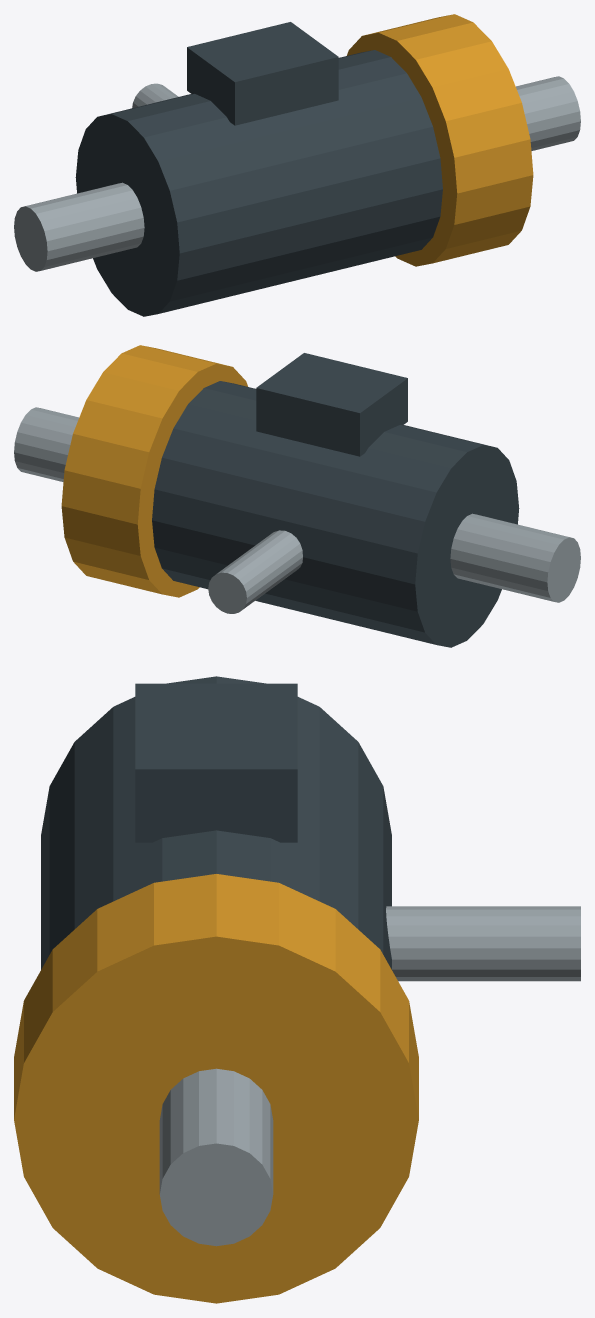
File: FuelLinks.obj
The picture shows the model from 3 angles, top to bottom: view 1: azimuth 30°, elevation 25°; view 2: azimuth 150°, elevation 25°; view 3: azimuth 270°, elevation 25°; orthographic projection. The views are drawn at different scales.
Parts seen in each view (by area): view 1: FuelLinksBody; view 2: FuelLinksBody; view 3: FuelLinksBody.
Part boxes in pixels (x1,y1,x2,y2): FuelLinksBody: [14, 14, 580, 316]; FuelLinksBody: [14, 345, 580, 647]; FuelLinksBody: [14, 676, 580, 1303].
Size of the model in its own units: 0.385 by 0.165 by 0.21.
